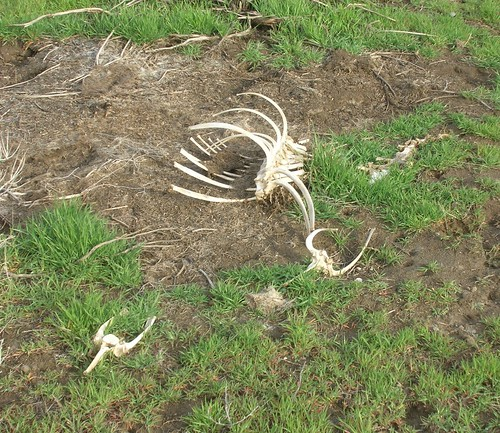bones: (48, 97, 487, 381)
